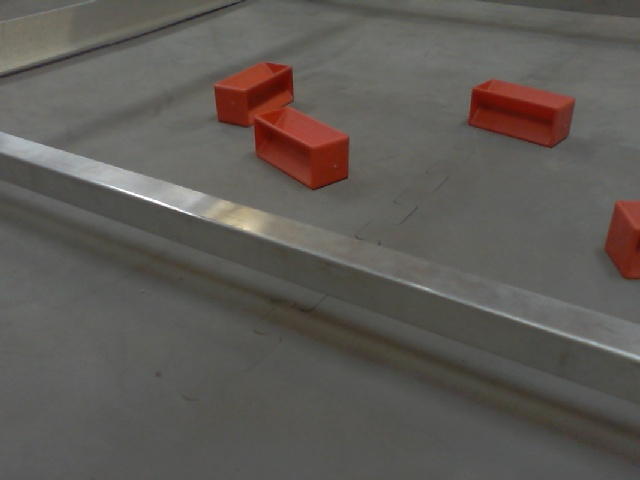RedSample: (253, 106, 351, 189), (467, 79, 575, 149), (215, 61, 295, 127), (605, 198, 640, 282)
